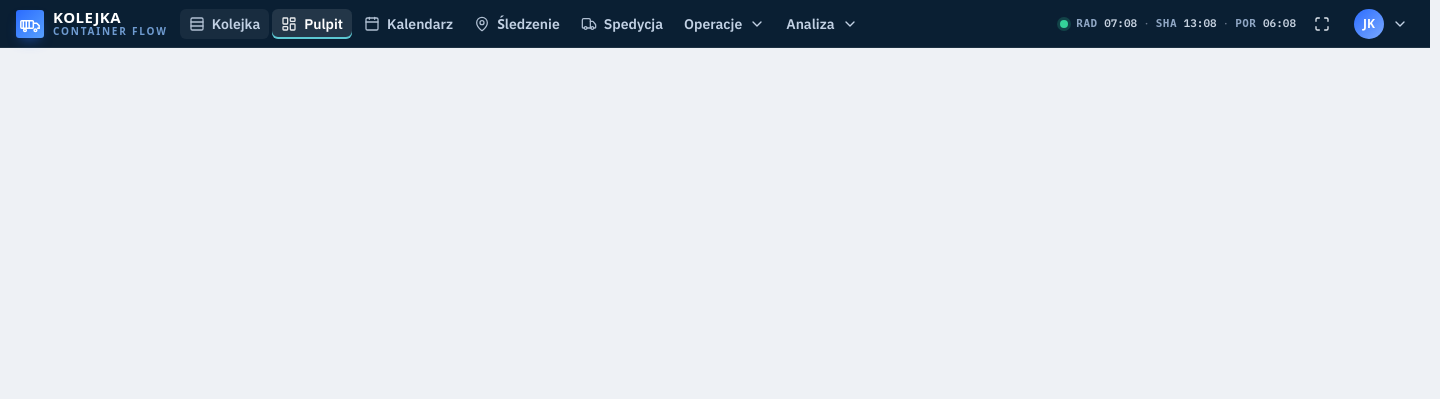
Test: menu użytkownika › nagłówek: imię i rola
Click the button with class "tn-user" at coordinates (1381, 24), box [1348,6,1414,40]
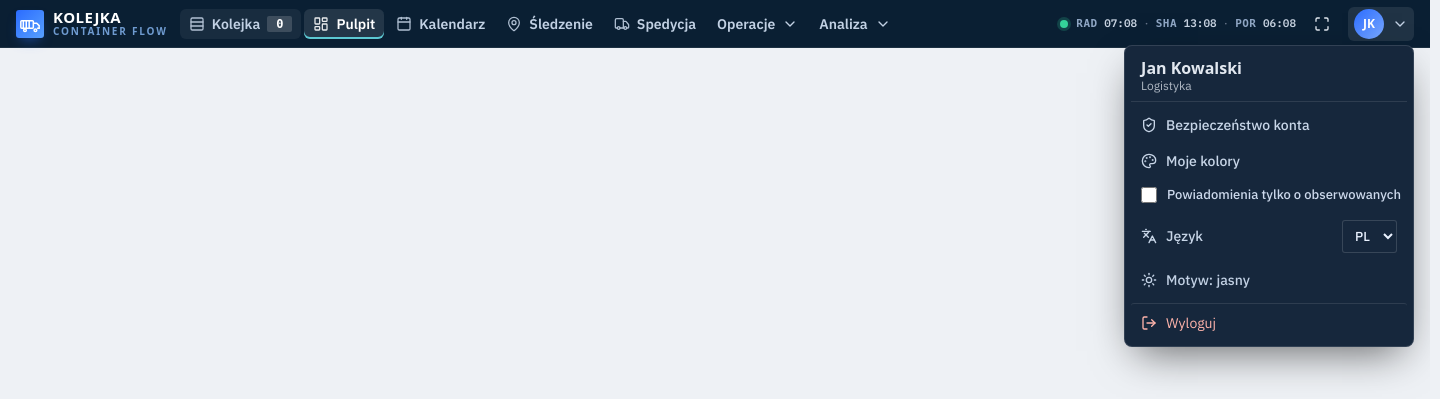
Expected: the element with class "tn-drop-head" shows "Jan Kowalski", [1141,56,1242,78]
Expected: the element with class "tn-drop-head" shows "Logistyka", [1141,78,1192,92]
